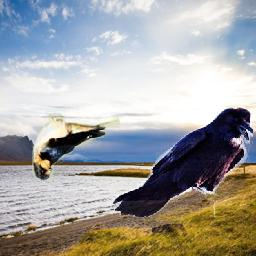Crow: (113, 107, 254, 218)
Swallow: (32, 113, 120, 181)
